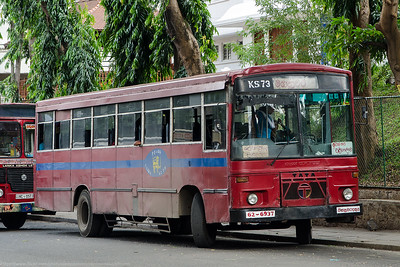bus: (32, 63, 363, 248), (1, 101, 33, 229)
